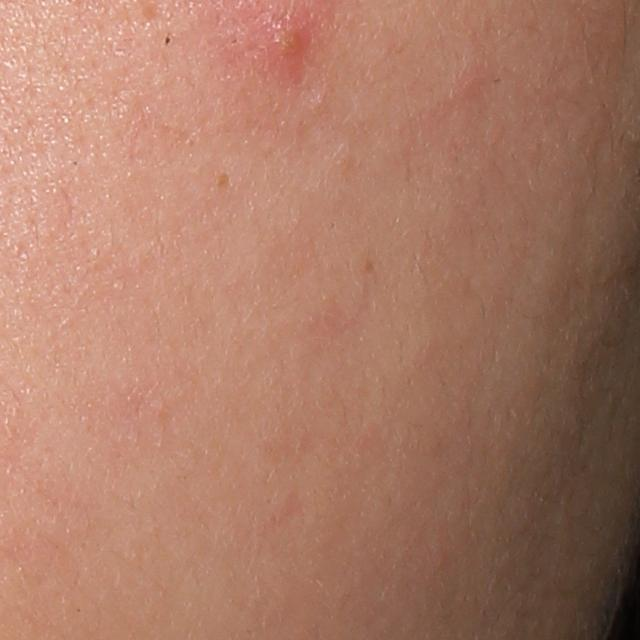atrophic_scar: (140, 2, 169, 30)
papule: (266, 17, 314, 64)
